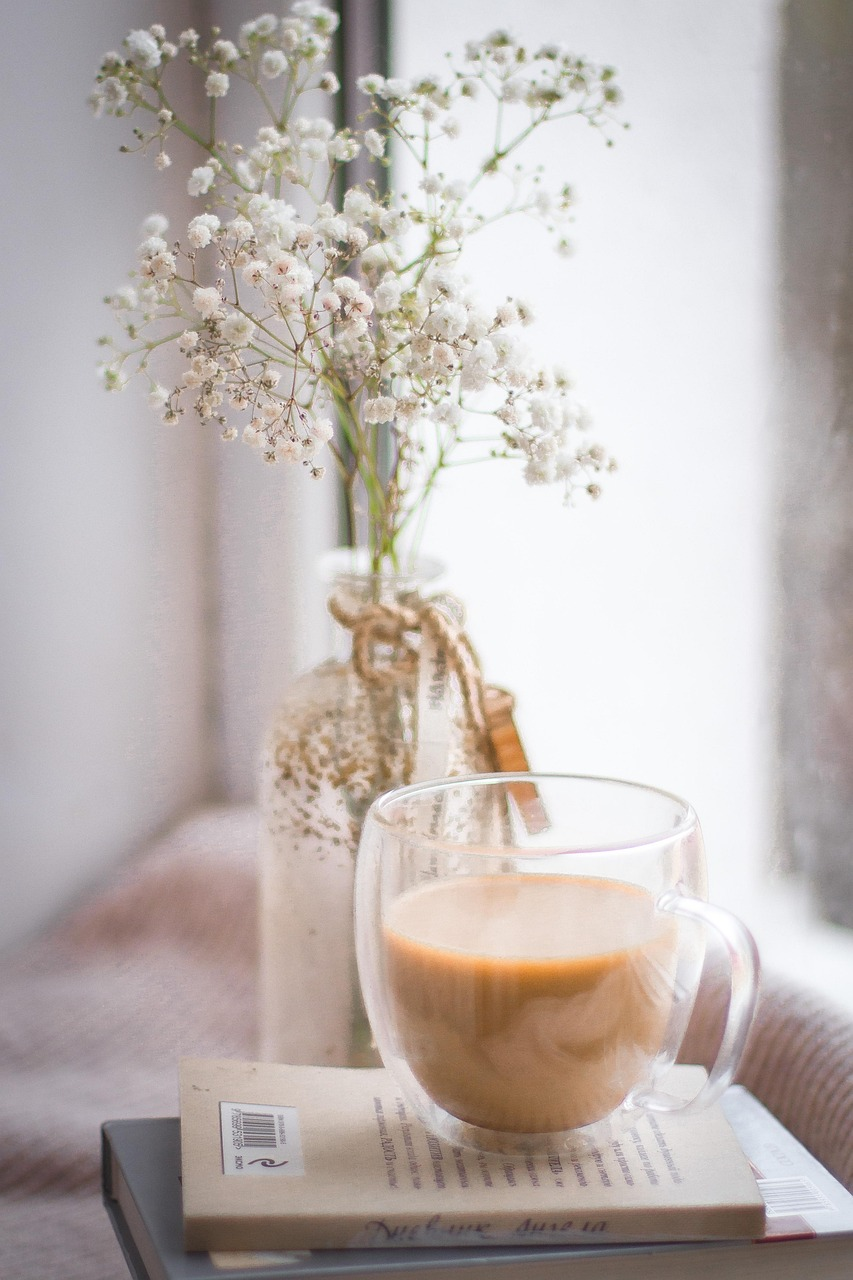mug: (263, 743, 776, 1193)
